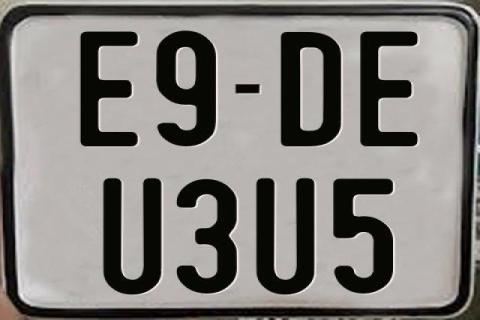0: (155, 28, 220, 149), (333, 178, 394, 298), (175, 178, 236, 294)
D: (278, 31, 343, 147)
E: (78, 29, 140, 145), (358, 31, 420, 146)
U: (100, 177, 162, 295), (256, 177, 316, 297)
